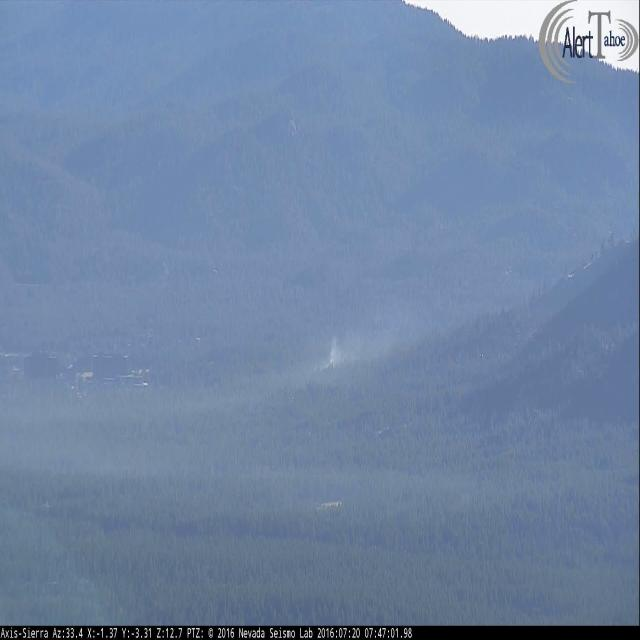smoke: (316, 310, 385, 380)
